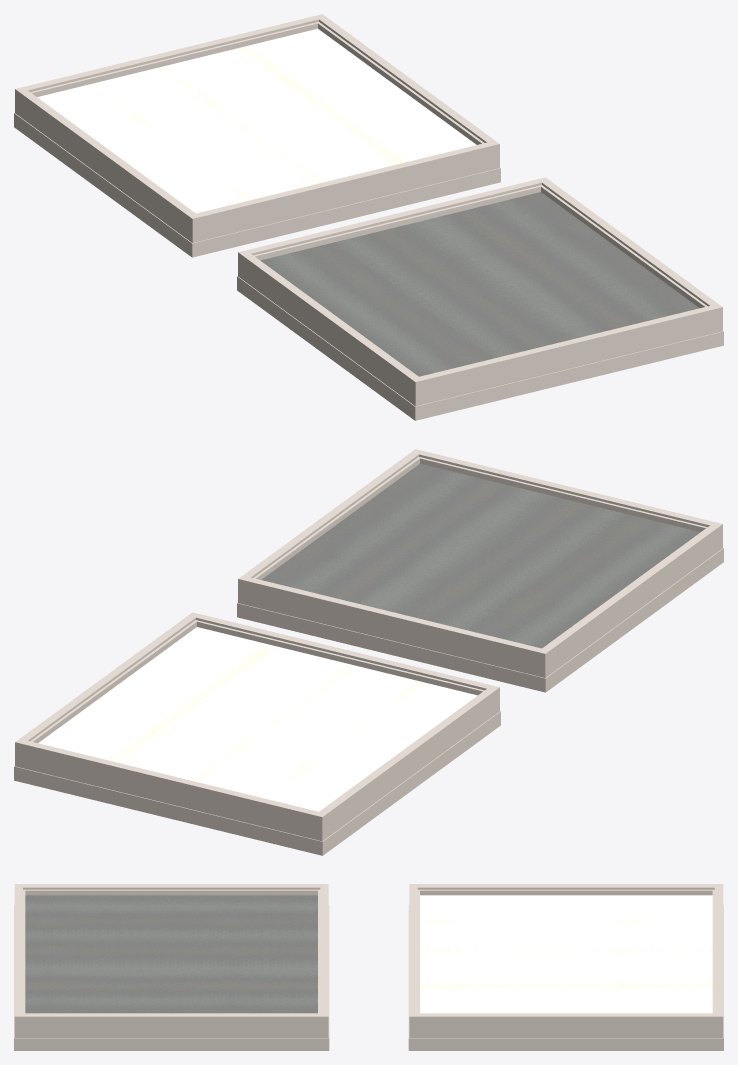
The model's file is ceiling_lowpoly_fluorescent_lamps_with_diffuser.glb.
3 renders of one model, top to bottom at view 1: azimuth 30°, elevation 25°; view 2: azimuth 150°, elevation 25°; view 3: azimuth 270°, elevation 25°, orthographic. The views are drawn at different scales.
Parts seen in each view (by area): view 1: Fluorescent_Diffuser_OFF_0, Fluorescent_Diffuser_ON_1; view 2: Fluorescent_Diffuser_ON_1, Fluorescent_Diffuser_OFF_0; view 3: Fluorescent_Diffuser_OFF_0, Fluorescent_Diffuser_ON_1.
Part boxes in pixels (bbox=[...]): Fluorescent_Diffuser_OFF_0: bbox=[237, 177, 723, 420]; Fluorescent_Diffuser_ON_1: bbox=[14, 14, 500, 257]; Fluorescent_Diffuser_ON_1: bbox=[14, 612, 500, 855]; Fluorescent_Diffuser_OFF_0: bbox=[237, 449, 723, 692]; Fluorescent_Diffuser_OFF_0: bbox=[14, 884, 329, 1050]; Fluorescent_Diffuser_ON_1: bbox=[408, 884, 723, 1050].
Bounding box in the file's own units: 0.7992 × 0.0947 × 1.8.
Materials: 3 (2 with a texture image).
